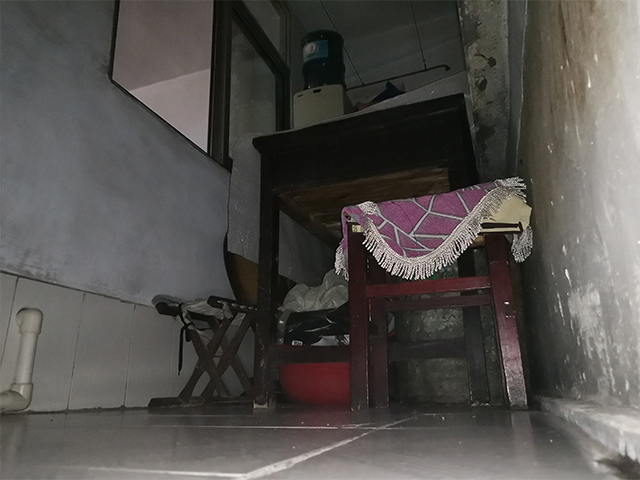stool: (333, 174, 540, 413), (145, 293, 260, 413)
table: (250, 91, 499, 411)
